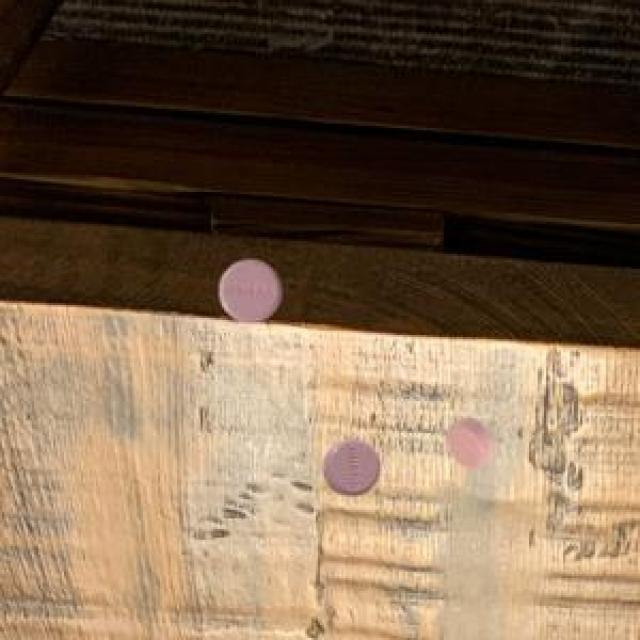Kremil_S: (205, 241, 287, 331), (317, 427, 385, 508), (433, 413, 497, 477)
